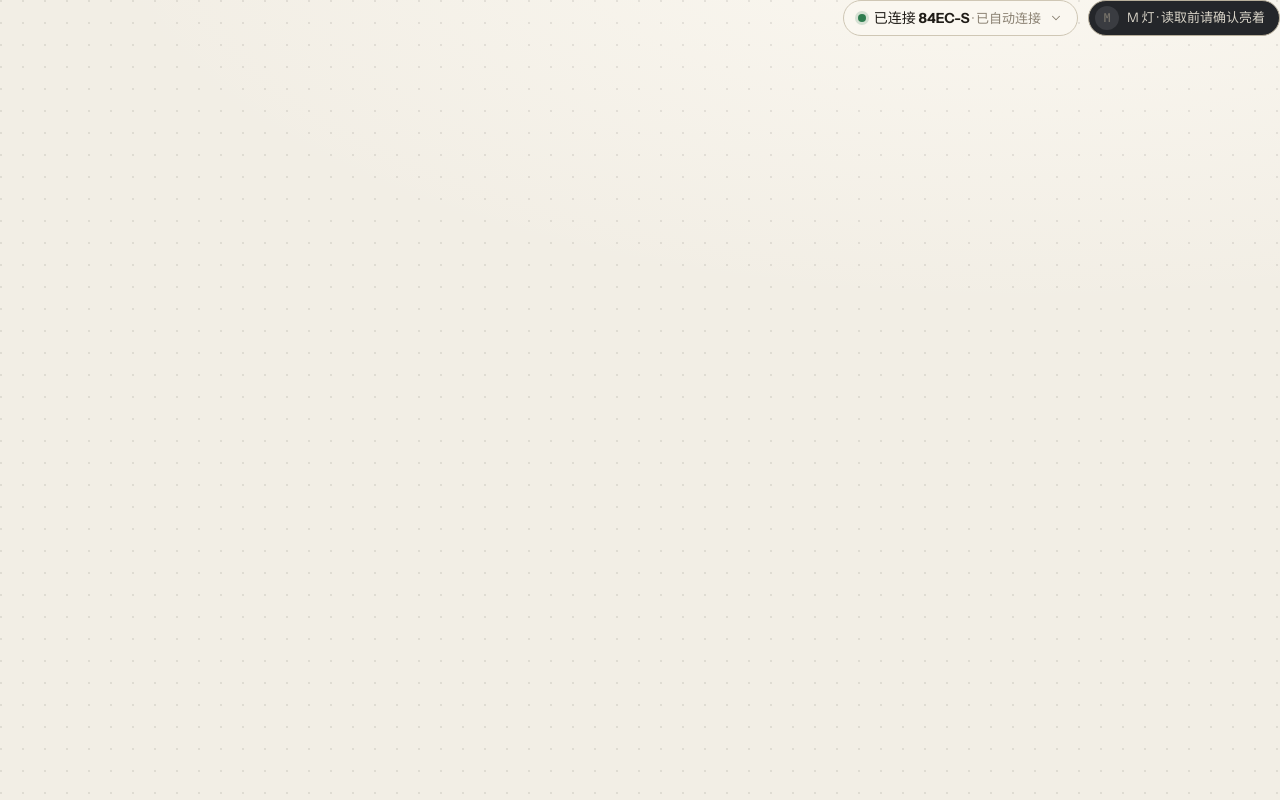
Test: ConnectionBar, connected › shows the connection in a pill that opens the 连接 popover with firmware, 自动连接 and 断开
This screenshot has width=1280, height=800.
Later steps or results of the test are not shown.
Expected: the button "断开" is not shown
Click the button "已连接 84EC-S · 已自动连接" at (960, 18), box [843, 0, 1078, 36]
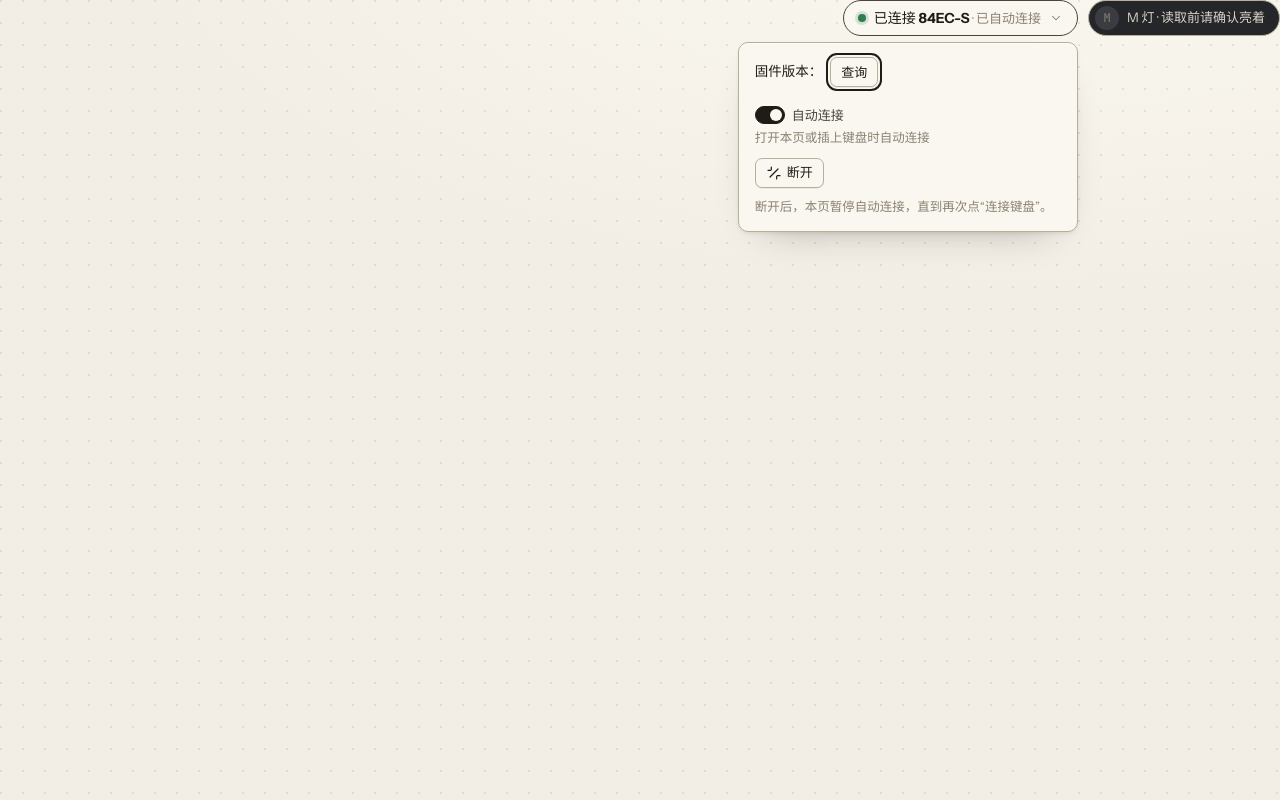
Now the button with aria-label "查询固件版本" reads "查询"
Click the button with aria-label "查询固件版本" at (854, 72), box [830, 57, 878, 87]
Now the text "断开后，本页暂停自动连接，直到再次点“连接键盘”。" is shown, box [755, 198, 1061, 217]
